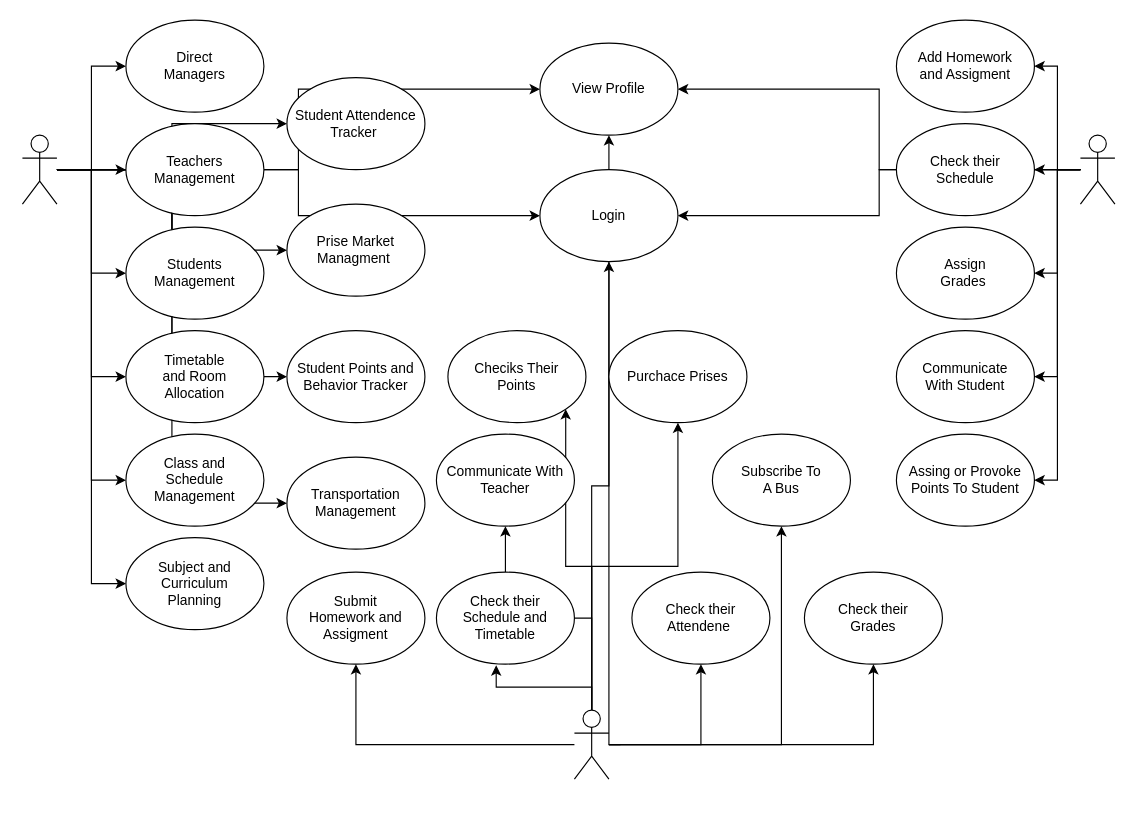
This 1142x823 diagram has some shape labels left out. The shapes that lost their labels are listed below. From the top down, each one's box as (x1, y1, x2, y2) in pixels, then its label:
(21, 134, 57, 204): Admin
(1079, 134, 1115, 204): Teacher
(573, 709, 609, 779): Student & Parents
